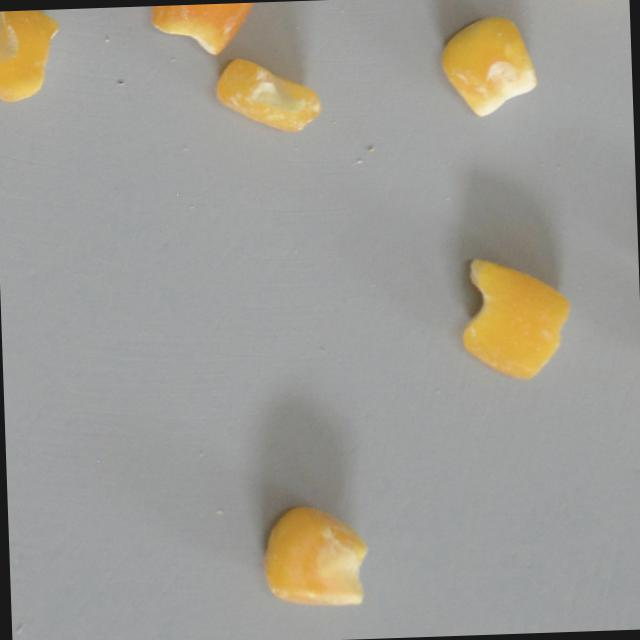dañado: (147, 2, 264, 57)
no_canjicado: (456, 252, 574, 382), (0, 9, 63, 102)
pelicula: (260, 502, 373, 609), (436, 14, 538, 117), (213, 53, 322, 136)
